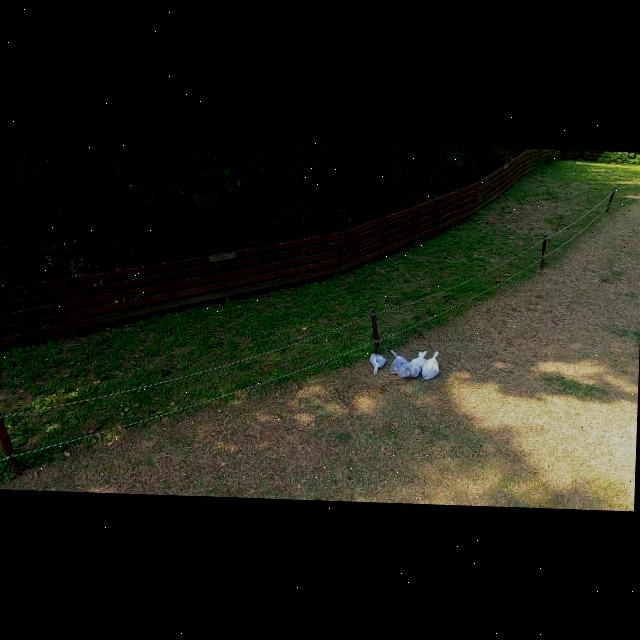trash: (405, 346, 434, 376), (395, 353, 424, 379), (418, 347, 441, 379), (387, 349, 412, 377), (366, 352, 388, 376)
